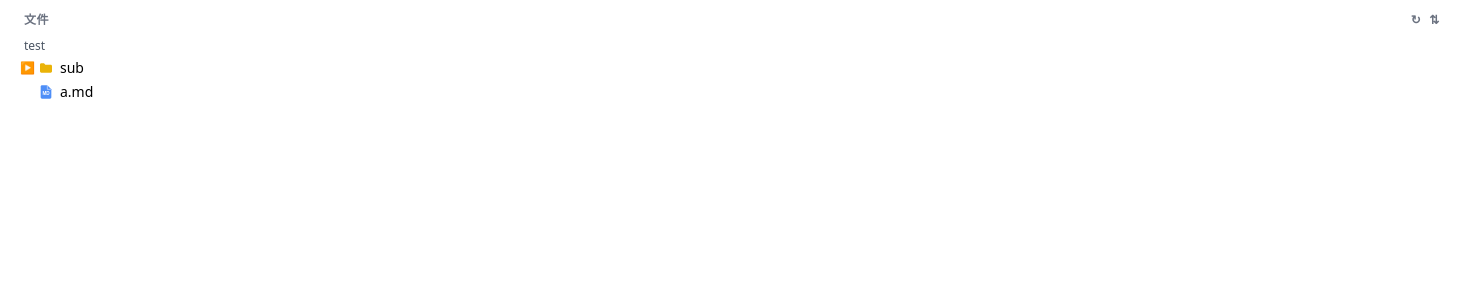
it: FileTree › 右键菜单 › 已收藏文件右键应显示「从收藏夹移除」
Right-click the text "a.md": {"x": 77, "y": 92} [60,82,93,102]
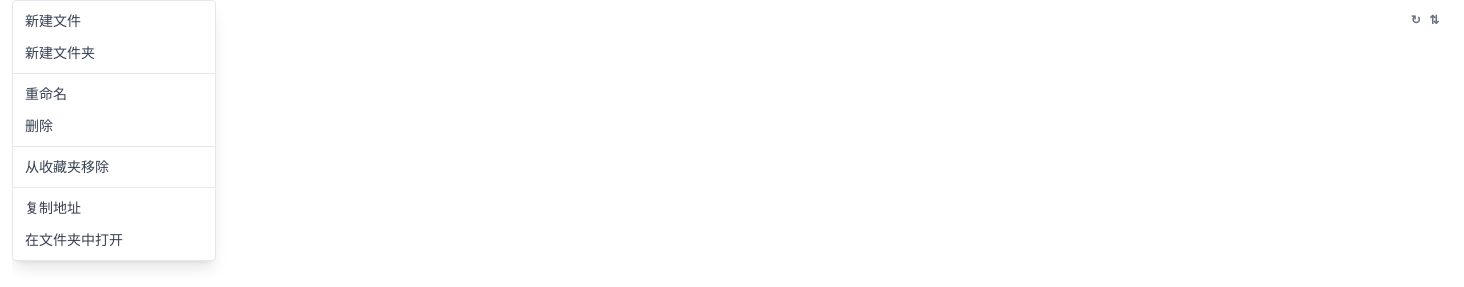
Expected: the menu item "从收藏夹移除" is shown, [13,151,215,183]
